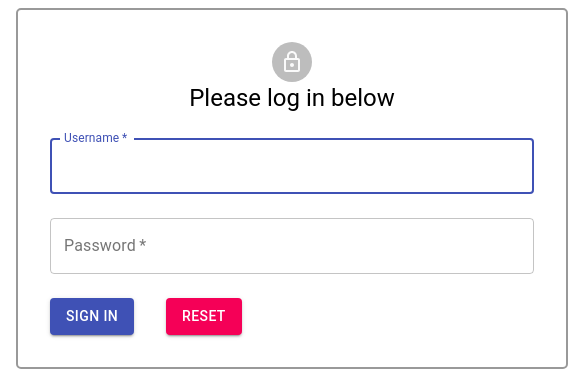
Test: Expect username and password feild to be empty when reset button clicked
Type "testuser" into the field with id "username" at [292, 166], box [50,138,534,194]
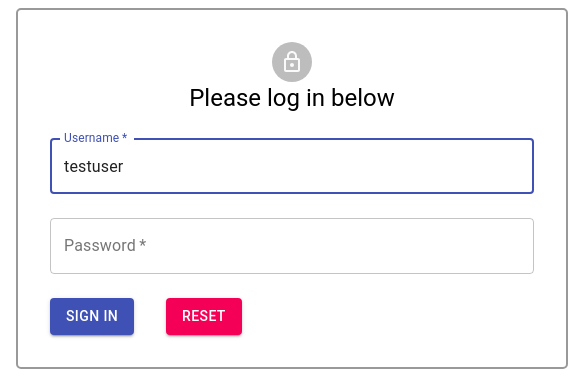
Type "password" into the password field labelled "Password *" at [292, 246], box [50,218,534,274]
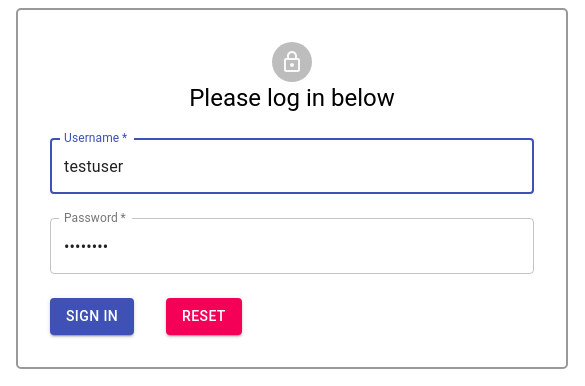
Click the button with id "reset-btn" at [204, 316], box [166,298,242,334]
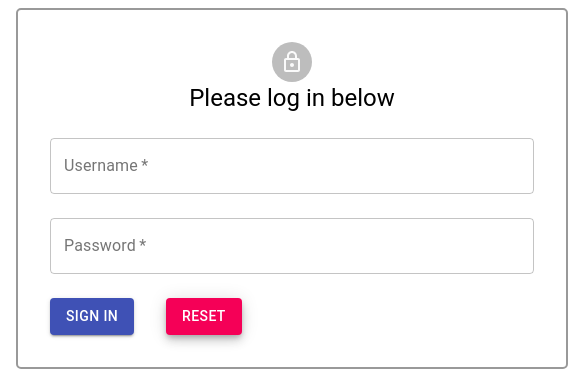
Now the field with id "username" is empty, box [50,138,534,194]
Now the password field labelled "Password *" is empty, box [50,218,534,274]
